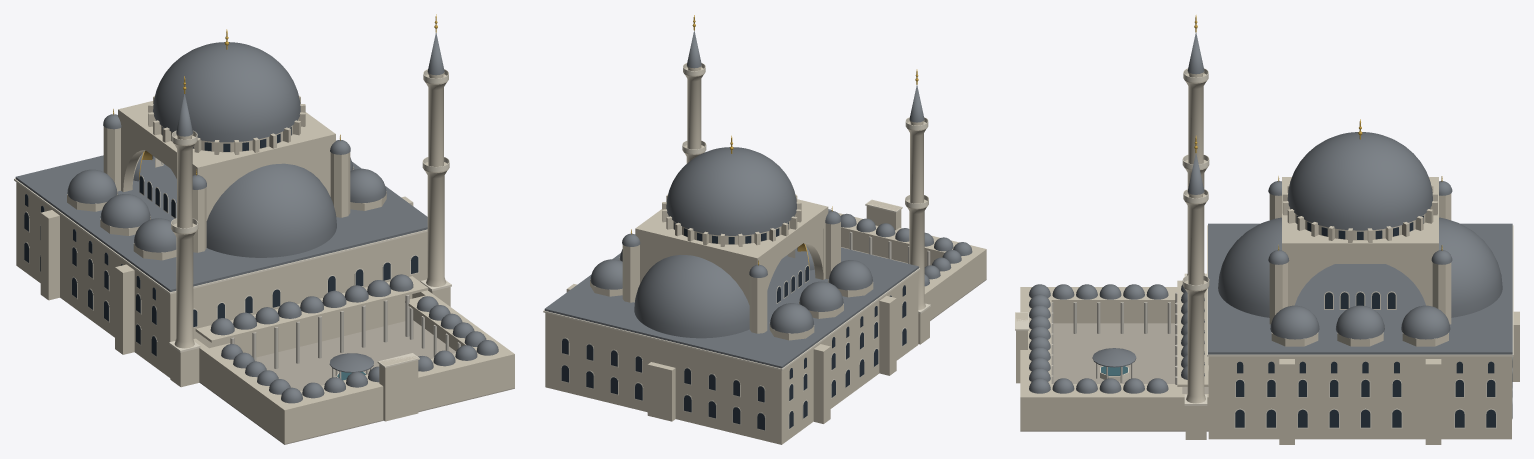
The model's file is mosque_two_minarets.glb.
The picture shows the model from 3 angles, left to right: view 1: azimuth 30°, elevation 25°; view 2: azimuth 150°, elevation 25°; view 3: azimuth 270°, elevation 25°; orthographic projection. The views are drawn at different scales.
Visible parts, largest first — view 1: Prayer hall walls - Cut stone, warm limestone, Courtyard walls, porticoes and fountain - Cut stone, warm li, Semi-domes, exedrae, side domes and turret cupolas - Lead sh, Arches, pendentive zone, drum and turrets - Cut stone, warm , Hall roof (lead) - Lead sheet domes and roofs, Central dome - Lead sheet domes and roofs, Courtyard portico domes and fountain canopy - Lead sheet dom, Courtyard walls, porticoes and fountain - Courtyard paving, Minaret 1 (left) shaft and balconies - Cut stone, warm limes, Minaret 2 (right) shaft and balconies - Cut stone, warm lime, Windows - Window glass, dark, Courtyard walls, porticoes and fountain - Marble floor and c (+5 smaller); view 2: Prayer hall walls - Cut stone, warm limestone, Semi-domes, exedrae, side domes and turret cupolas - Lead sh, Arches, pendentive zone, drum and turrets - Cut stone, warm , Hall roof (lead) - Lead sheet domes and roofs, Central dome - Lead sheet domes and roofs, Courtyard walls, porticoes and fountain - Cut stone, warm li, Windows - Window glass, dark, Minaret 1 (left) shaft and balconies - Cut stone, warm limes, Courtyard portico domes and fountain canopy - Lead sheet dom, Windows - Stone trims and cornices, light, Minaret 2 (right) shaft and balconies - Cut stone, warm lime, Windows - Cut stone, warm limestone (+1 smaller); view 3: Prayer hall walls - Cut stone, warm limestone, Hall roof (lead) - Lead sheet domes and roofs, Semi-domes, exedrae, side domes and turret cupolas - Lead sh, Courtyard walls, porticoes and fountain - Cut stone, warm li, Central dome - Lead sheet domes and roofs, Arches, pendentive zone, drum and turrets - Cut stone, warm , Courtyard portico domes and fountain canopy - Lead sheet dom, Courtyard walls, porticoes and fountain - Courtyard paving, Windows - Window glass, dark, Minaret 2 (right) shaft and balconies - Cut stone, warm lime, Minaret 1 (left) shaft and balconies - Cut stone, warm limes, Windows - Stone trims and cornices, light (+4 smaller).
Part boxes in pixels (bbox=[...]): Prayer hall walls - Cut stone, warm limestone: bbox=[16, 182, 427, 377]; Courtyard walls, porticoes and fountain - Cut stone, warm li: bbox=[193, 276, 514, 443]; Semi-domes, exedrae, side domes and turret cupolas - Lead sh: bbox=[67, 114, 386, 257]; Arches, pendentive zone, drum and turrets - Cut stone, warm : bbox=[67, 101, 386, 260]; Hall roof (lead) - Lead sheet domes and roofs: bbox=[15, 155, 427, 291]; Central dome - Lead sheet domes and roofs: bbox=[153, 42, 300, 142]; Courtyard portico domes and fountain canopy - Lead sheet dom: bbox=[210, 274, 498, 403]; Courtyard walls, porticoes and fountain - Courtyard paving: bbox=[199, 320, 514, 444]; Minaret 1 (left) shaft and balconies - Cut stone, warm limes: bbox=[170, 133, 199, 387]; Minaret 2 (right) shaft and balconies - Cut stone, warm lime: bbox=[422, 72, 450, 306]; Windows - Window glass, dark: bbox=[24, 120, 418, 356]; Courtyard walls, porticoes and fountain - Marble floor and c: bbox=[230, 295, 460, 378]; Prayer hall walls - Cut stone, warm limestone: bbox=[545, 271, 918, 444]; Semi-domes, exedrae, side domes and turret cupolas - Lead sh: bbox=[590, 211, 872, 338]; Arches, pendentive zone, drum and turrets - Cut stone, warm : bbox=[590, 199, 873, 340]; Hall roof (lead) - Lead sheet domes and roofs: bbox=[544, 247, 918, 368]; Central dome - Lead sheet domes and roofs: bbox=[666, 147, 796, 235]; Courtyard walls, porticoes and fountain - Cut stone, warm li: bbox=[838, 200, 986, 320]; Windows - Window glass, dark: bbox=[561, 216, 906, 430]; Minaret 1 (left) shaft and balconies - Cut stone, warm limes: bbox=[905, 119, 929, 344]; Courtyard portico domes and fountain canopy - Lead sheet dom: bbox=[828, 209, 972, 286]; Windows - Stone trims and cornices, light: bbox=[561, 249, 906, 430]; Minaret 2 (right) shaft and balconies - Cut stone, warm lime: bbox=[682, 65, 706, 163]; Windows - Cut stone, warm limestone: bbox=[662, 194, 801, 246]; Prayer hall walls - Cut stone, warm limestone: bbox=[1208, 311, 1519, 444]; Hall roof (lead) - Lead sheet domes and roofs: bbox=[1208, 223, 1512, 354]; Semi-domes, exedrae, side domes and turret cupolas - Lead sh: bbox=[1218, 181, 1502, 339]; Courtyard walls, porticoes and fountain - Cut stone, warm li: bbox=[1016, 280, 1208, 430]; Central dome - Lead sheet domes and roofs: bbox=[1287, 132, 1432, 230]; Arches, pendentive zone, drum and turrets - Cut stone, warm : bbox=[1269, 177, 1451, 346]; Courtyard portico domes and fountain canopy - Lead sheet dom: bbox=[1029, 284, 1204, 393]; Courtyard walls, porticoes and fountain - Courtyard paving: bbox=[1020, 323, 1208, 431]; Windows - Window glass, dark: bbox=[1235, 208, 1512, 427]; Minaret 2 (right) shaft and balconies - Cut stone, warm lime: bbox=[1182, 192, 1209, 439]; Minaret 1 (left) shaft and balconies - Cut stone, warm limes: bbox=[1182, 71, 1208, 275]; Windows - Stone trims and cornices, light: bbox=[1208, 291, 1512, 428].
Size of the model in its own units: 63 by 63.66 by 96.5.
Materials: 9 (9 with a texture image).
